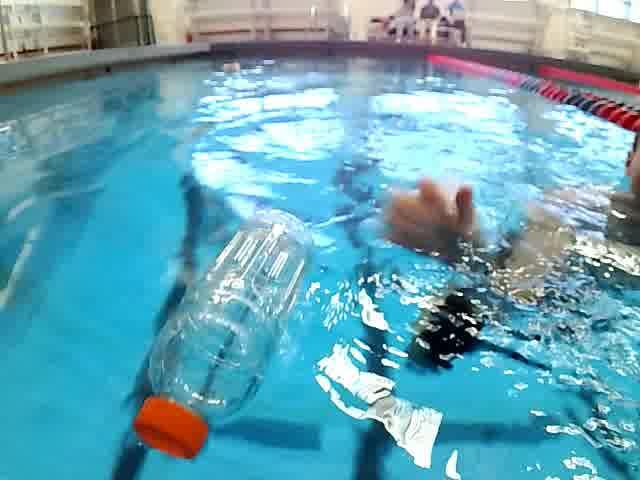Bottle: (128, 205, 325, 464)
